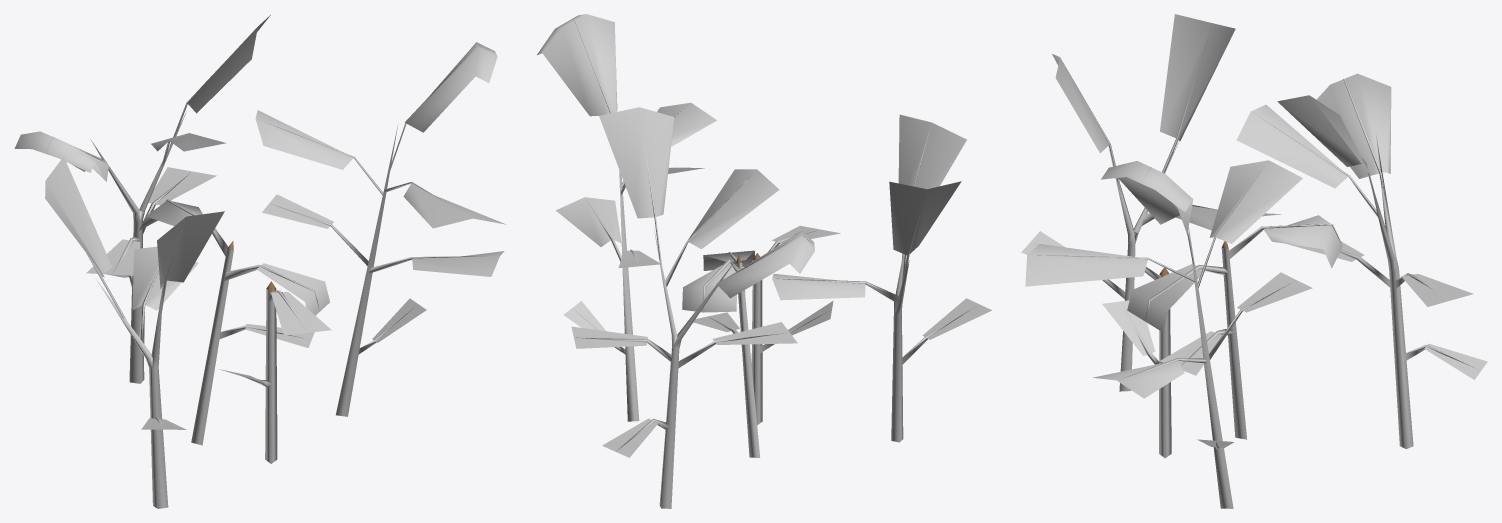
Rendered from tree13.FBX.
3 views of the same model, side by side, from view 1: azimuth 30°, elevation 25°; view 2: azimuth 150°, elevation 25°; view 3: azimuth 270°, elevation 25° (orthographic). The views are drawn at different scales.
Visible parts, largest first — view 1: Tree13; view 2: Tree13; view 3: Tree13.
Part boxes in pixels (<box>): Tree13: <box>14,15,506,508</box>; Tree13: <box>537,14,991,508</box>; Tree13: <box>1021,14,1487,508</box>.
Size of the model in its own units: 63.66 by 51.37 by 55.17.
